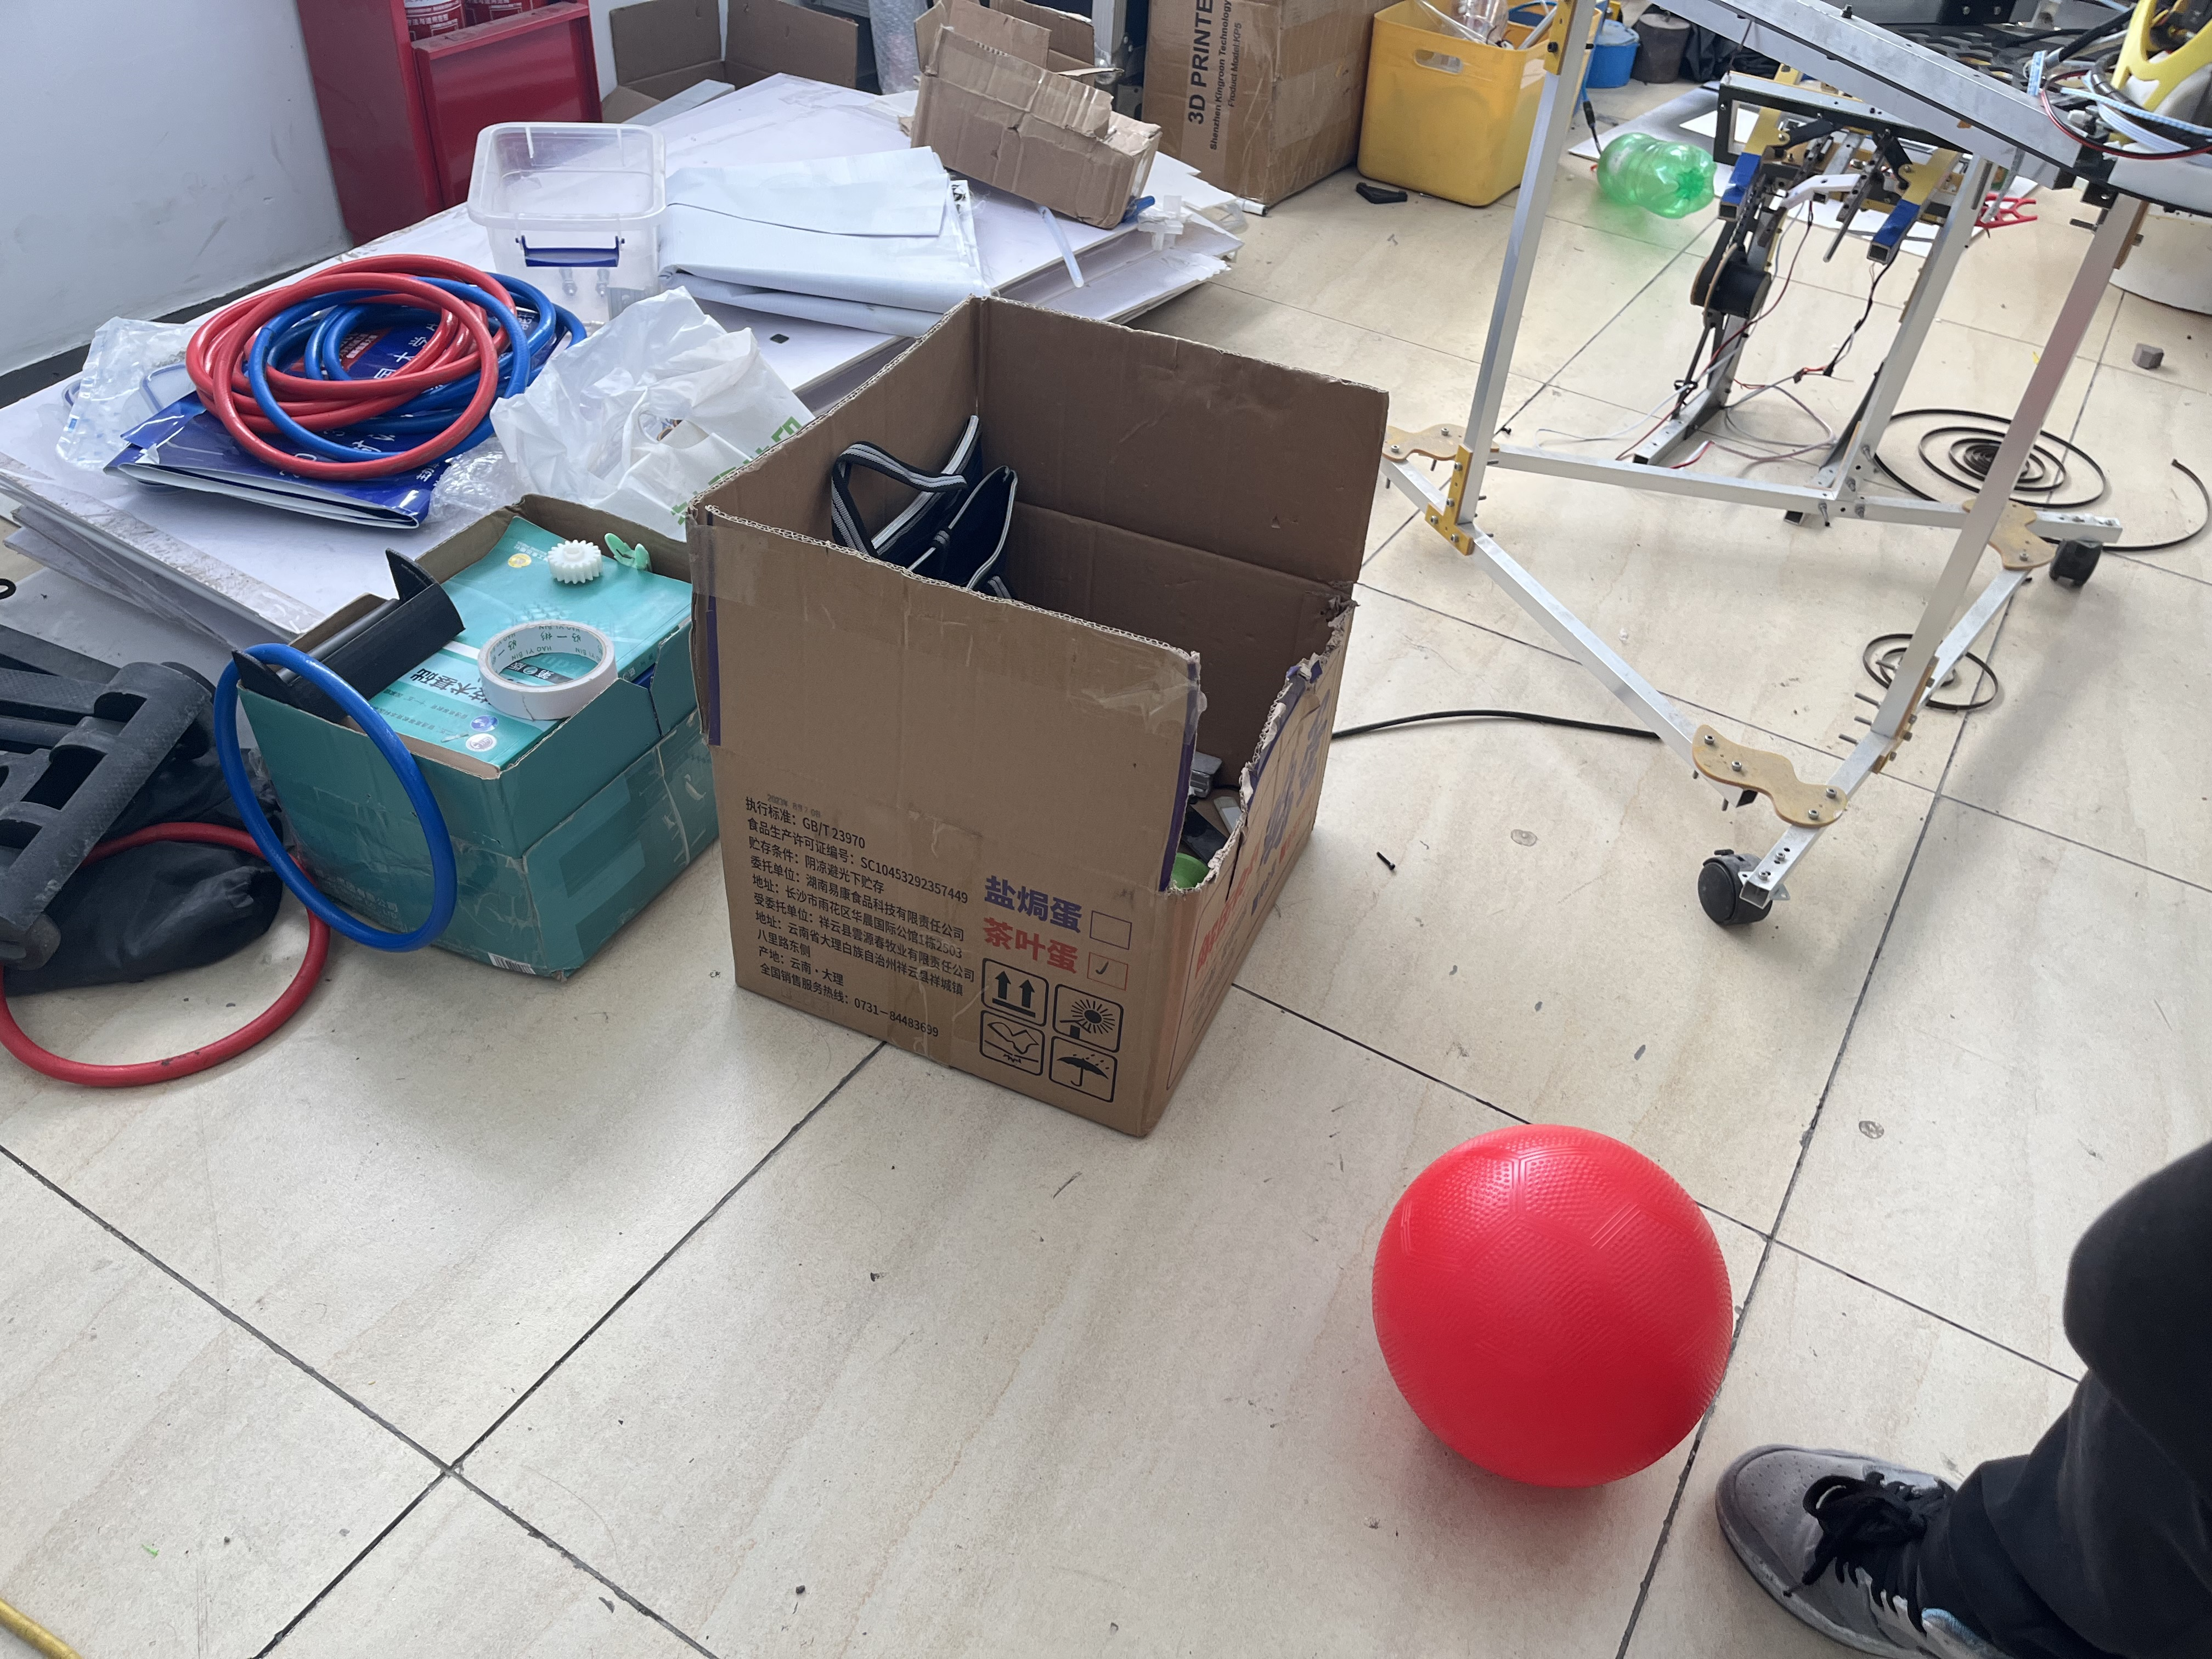red: (1369, 1105, 1747, 1504)
